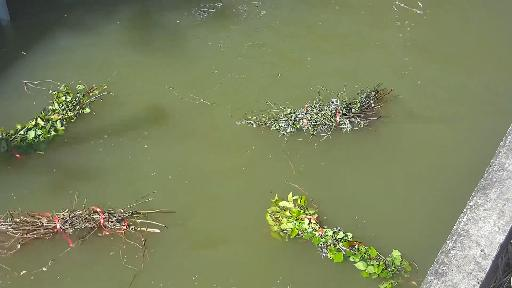twig: (267, 186, 418, 286), (0, 192, 179, 255), (239, 79, 402, 145), (0, 73, 123, 157)
